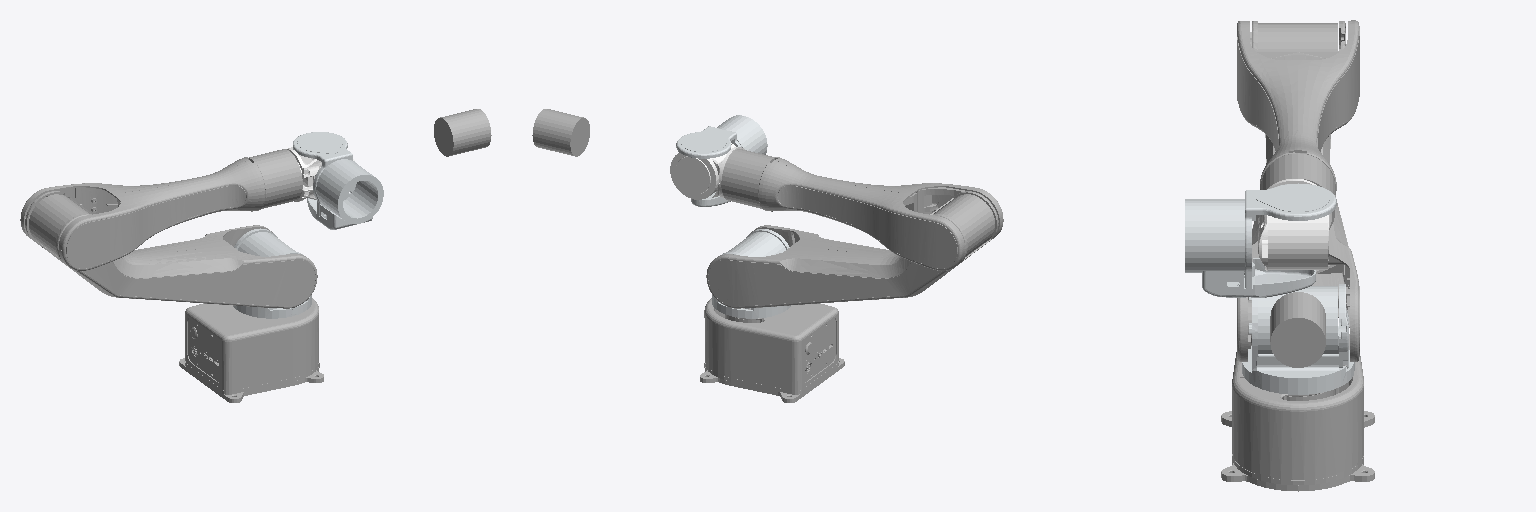
URDF robot description (airbot_play_v6_1):
<?xml version="1.0" encoding="utf-8"?>
<!-- This URDF was automatically created by SolidWorks to URDF Exporter! Originally created by [author] ([email redacted]) 
     Commit Version: 1.6.0-4-g7f85cfe  Build Version: 1.6.7995.38578
     For more information, please see http://wiki.ros.org/sw_urdf_exporter -->
<robot
  name="airbot_play_v6_1">
  <link
    name="base_link">
    <inertial>
      <origin
        xyz="-0.010729 -0.00017015 0.041712"
        rpy="0 0 0" />
      <mass
        value="0.77705" />
      <inertia
        ixx="0.0008454"
        ixy="-7.5E-06"
        ixz="2.06E-05"
        iyy="0.0011821"
        iyz="-6.4E-06"
        izz="0.0012443" />
    </inertial>
    <visual>
      <origin
        xyz="0 0 0"
        rpy="0 0 0" />
      <geometry>
        <mesh
          filename="package://robot_description/airbot/meshes/base_link.STL" />
      </geometry>
      <material
        name="">
        <color
          rgba="0.75294 0.75294 0.75294 1" />
      </material>
    </visual>
    <collision>
      <origin
        xyz="0 0 0"
        rpy="0 0 0" />
      <geometry>
        <mesh
          filename="package://robot_description/airbot/meshes/base_link.STL" />
      </geometry>
    </collision>
  </link>
  <link
    name="link1">
    <inertial>
      <origin
        xyz="7.9126E-05 -0.002527 -0.0041359"
        rpy="0 0 0" />
      <mass
        value="0.54639" />
      <inertia
        ixx="0.0003462"
        ixy="0"
        ixz="-1.4E-06"
        iyy="0.0002863"
        iyz="-1.1E-06"
        izz="0.0003255" />
    </inertial>
    <visual>
      <origin
        xyz="0 0 0"
        rpy="0 0 0" />
      <geometry>
        <mesh
          filename="package://robot_description/airbot/meshes/link1.STL" />
      </geometry>
      <material
        name="">
        <color
          rgba="0.89804 0.91765 0.92941 1" />
      </material>
    </visual>
    <collision>
      <origin
        xyz="0 0 0"
        rpy="0 0 0" />
      <geometry>
        <mesh
          filename="package://robot_description/airbot/meshes/link1.STL" />
      </geometry>
    </collision>
  </link>
  <joint
    name="joint1"
    type="revolute">
    <origin
      xyz="0 0 0.1172"
      rpy="0 0 0" />
    <parent
      link="base_link" />
    <child
      link="link1" />
    <axis
      xyz="0 0 1" />
    <limit
      lower="-3.14"
      upper="2.09"
      effort="18"
      velocity="3.14" />
  </joint>
  <link
    name="link2">
    <inertial>
      <origin
        xyz="0.22493 0.0047721 0.008023"
        rpy="0 0 0" />
      <mass
        value="0.64621" />
      <inertia
        ixx="0.0004901"
        ixy="-0.0002434"
        ixz="-0.0005229"
        iyy="0.0051052"
        iyz="2.95E-05"
        izz="0.0050391" />
    </inertial>
    <visual>
      <origin
        xyz="0 0 0"
        rpy="0 0 0" />
      <geometry>
        <mesh
          filename="package://robot_description/airbot/meshes/link2.STL" />
      </geometry>
      <material
        name="">
        <color
          rgba="0.75294 0.75294 0.75294 1" />
      </material>
    </visual>
    <collision>
      <origin
        xyz="0 0 0"
        rpy="0 0 0" />
      <geometry>
        <mesh
          filename="package://robot_description/airbot/meshes/link2.STL" />
      </geometry>
    </collision>
  </link>
  <joint
    name="joint2"
    type="revolute">
    <origin
      xyz="0 0 0"
      rpy="1.5708 -2.7549 0" />
    <parent
      link="link1" />
    <child
      link="link2" />
    <axis
      xyz="0 0 1" />
    <limit
      lower="-2.96"
      upper="0.17"
      effort="18"
      velocity="3.14" />
  </joint>
  <link
    name="link3">
    <inertial>
      <origin
        xyz="0.16813 -5.5576E-05 0.0031184"
        rpy="0 0 0" />
      <mass
        value="0.26829" />
      <inertia
        ixx="0.0001667"
        ixy="-7E-07"
        ixz="-0.0001113"
        iyy="0.0026816"
        iyz="-1E-07"
        izz="0.002619" />
    </inertial>
    <visual>
      <origin
        xyz="0 0 0"
        rpy="0 0 0" />
      <geometry>
        <mesh
          filename="package://robot_description/airbot/meshes/link3.STL" />
      </geometry>
      <material
        name="">
        <color
          rgba="0.75294 0.75294 0.75294 1" />
      </material>
    </visual>
    <collision>
      <origin
        xyz="0 0 0"
        rpy="0 0 0" />
      <geometry>
        <mesh
          filename="package://robot_description/airbot/meshes/link3.STL" />
      </geometry>
    </collision>
  </link>
  <joint
    name="joint3"
    type="revolute">
    <origin
      xyz="0.27009 0 0"
      rpy="0 0 -2.7549" />
    <parent
      link="link2" />
    <child
      link="link3" />
    <axis
      xyz="0 0 1" />
    <limit
      lower="-0.087"
      upper="3.14"
      effort="18"
      velocity="3.14" />
  </joint>
  <link
    name="link4">
    <inertial>
      <origin
        xyz="5.2436E-06 0.00040412 -0.03228"
        rpy="0 0 0" />
      <mass
        value="0.34876" />
      <inertia
        ixx="0.0001074"
        ixy="0"
        ixz="0"
        iyy="0.000119"
        iyz="1E-06"
        izz="8.83E-05" />
    </inertial>
    <visual>
      <origin
        xyz="0 0 0"
        rpy="0 0 0" />
      <geometry>
        <mesh
          filename="package://robot_description/airbot/meshes/link4.STL" />
      </geometry>
      <material
        name="">
        <color
          rgba="1 1 1 1" />
      </material>
    </visual>
    <collision>
      <origin
        xyz="0 0 0"
        rpy="0 0 0" />
      <geometry>
        <mesh
          filename="package://robot_description/airbot/meshes/link4.STL" />
      </geometry>
    </collision>
  </link>
  <joint
    name="joint4"
    type="revolute">
    <origin
      xyz="0.30854 0 0"
      rpy="3.1416 -1.5708 0" />
    <parent
      link="link3" />
    <child
      link="link4" />
    <axis
      xyz="0 0 1" />
    <limit
      lower="-2.96"
      upper="2.96"
      effort="3"
      velocity="6.28" />
  </joint>
  <link
    name="link5">
    <inertial>
      <origin
        xyz="8.3318E-06 0.026148 0.002525"
        rpy="0 0 0" />
      <mass
        value="0.36132" />
      <inertia
        ixx="0.0004676"
        ixy="0"
        ixz="0"
        iyy="0.0001825"
        iyz="-3.29E-05"
        izz="0.0004286" />
    </inertial>
    <visual>
      <origin
        xyz="0 0 0"
        rpy="0 0 0" />
      <geometry>
        <mesh
          filename="package://robot_description/airbot/meshes/link5.STL" />
      </geometry>
      <material
        name="">
        <color
          rgba="0.89804 0.91765 0.92941 1" />
      </material>
    </visual>
    <collision>
      <origin
        xyz="0 0 0"
        rpy="0 0 0" />
      <geometry>
        <mesh
          filename="package://robot_description/airbot/meshes/link5.STL" />
      </geometry>
    </collision>
  </link>
  <joint
    name="joint5"
    type="revolute">
    <origin
      xyz="0 0 0"
      rpy="1.5708 0 0" />
    <parent
      link="link4" />
    <child
      link="link5" />
    <axis
      xyz="0 0 1" />
    <limit
      lower="-1.74"
      upper="1.74"
      effort="3"
      velocity="6.28" />
  </joint>
  <link
    name="link6">
    <inertial>
      <origin
        xyz="0.020482 2.5483E-05 -0.079685"
        rpy="0 0 0" />
      <mass
        value="0.80081" />
      <inertia
        ixx="0.0011915"
        ixy="-5.7E-06"
        ixz="0.0002989"
        iyy="0.0020617"
        iyz="9E-07"
        izz="0.0011889" />
    </inertial>
    <visual>
      <origin
        xyz="0 0 0"
        rpy="0 0 0" />
      <geometry>
        <mesh
          filename="package://robot_description/airbot/meshes/link6.STL" />
      </geometry>
      <material
        name="">
        <color
          rgba="0.75294 0.75294 0.75294 1" />
      </material>
    </visual>
    <collision>
      <origin
        xyz="0 0 0"
        rpy="0 0 0" />
      <geometry>
        <mesh
          filename="package://robot_description/airbot/meshes/link6.STL" />
      </geometry>
    </collision>
  </link>
  <joint
    name="joint6"
    type="revolute">
    <origin
      xyz="0 0.19608 0"
      rpy="-1.5708 1.5708 0" />
    <parent
      link="link5" />
    <child
      link="link6" />
    <axis
      xyz="0 0 1" />
    <limit
      lower="-3.14"
      upper="3.14"
      effort="3"
      velocity="6.28" />
  </joint>
</robot>

--- What the picture shows (computed from the rendered views, not written in the file) ---
Views: 3 orthographic renders of the robot side by side, from view 1: azimuth 30°, elevation 25°; view 2: azimuth 150°, elevation 25°; view 3: azimuth 270°, elevation 25°.
Robot: airbot_play_v6_1 — 7 links, 6 joints (6 revolute); root link base_link; default pose: every joint at zero.
Links seen in each view (by area): view 1: link2, link3, base_link, link5, link6, link1, link4; view 2: link2, link3, base_link, link5, link6, link4, link1; view 3: base_link, link3, link5, link2, link1, link4, link6.
Link boxes in pixels (<box>): link2: <box>25,191,317,308</box>; link3: <box>20,149,302,270</box>; base_link: <box>179,298,323,402</box>; link5: <box>293,132,383,229</box>; link6: <box>434,109,491,156</box>; link1: <box>233,228,311,318</box>; link4: <box>287,147,354,201</box>; link2: <box>706,191,998,308</box>; link3: <box>721,149,1003,270</box>; base_link: <box>700,298,844,402</box>; link5: <box>676,115,767,206</box>; link6: <box>532,109,589,156</box>; link4: <box>670,143,744,199</box>; link1: <box>712,229,790,318</box>; base_link: <box>1221,334,1374,491</box>; link3: <box>1237,20,1359,229</box>; link5: <box>1185,183,1336,297</box>; link2: <box>1237,21,1359,361</box>; link1: <box>1242,284,1354,394</box>; link4: <box>1258,179,1331,270</box>; link6: <box>1270,292,1325,367</box>.
Size in the robot's own frame: 0.5346 by 0.1435 by 0.2491 metres.
Meshes: 7 distinct files referenced, 7 mesh visuals loaded (7 binary STL).